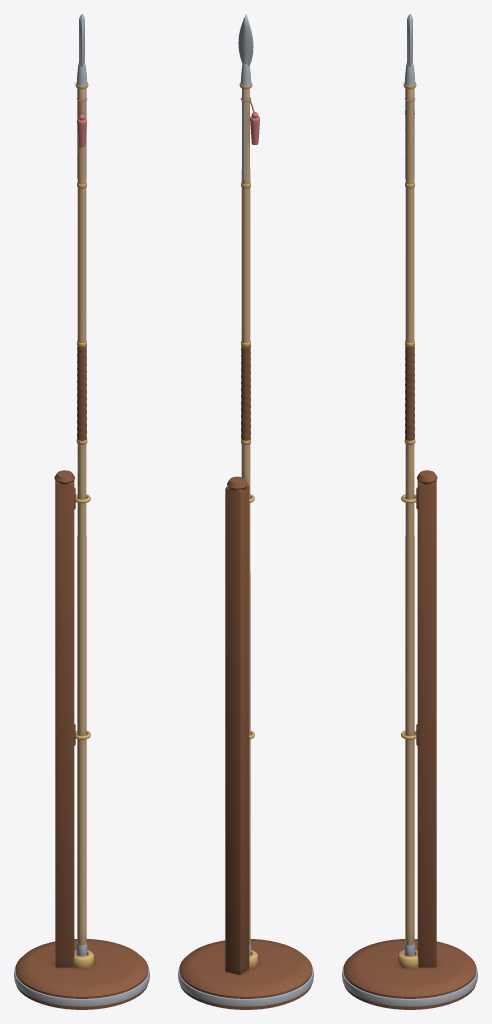
The model's file is pike.glb.
3 renders of one model, left to right at view 1: azimuth 90°, elevation 25°; view 2: azimuth 150°, elevation 25°; view 3: azimuth 270°, elevation 25°, orthographic.
Parts seen in each view (by area): view 1: pike_body; view 2: pike_body; view 3: pike_body.
Boxes of the visible parts, bbox=[...] form: pike_body: bbox=[14, 14, 149, 1009]; pike_body: bbox=[178, 14, 313, 1009]; pike_body: bbox=[342, 14, 477, 1009].
Bounding box in the file's own units: 0.521 × 4.1 × 0.521.
1 material, 1 textured.
